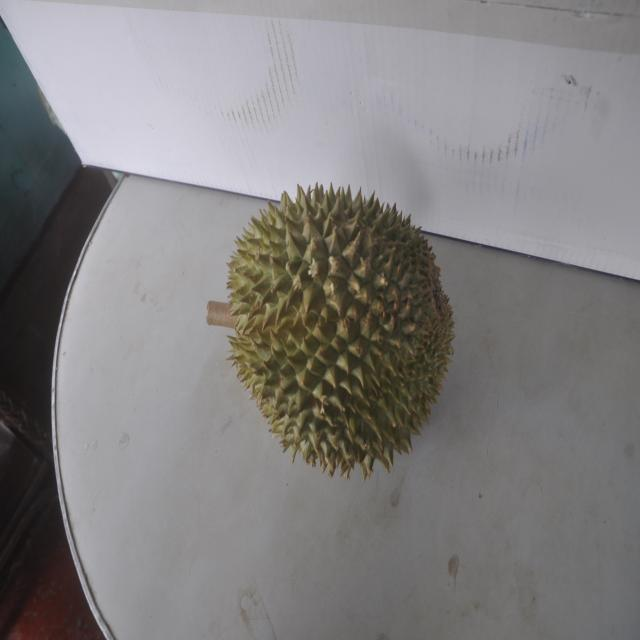mature: (220, 177, 448, 483)
